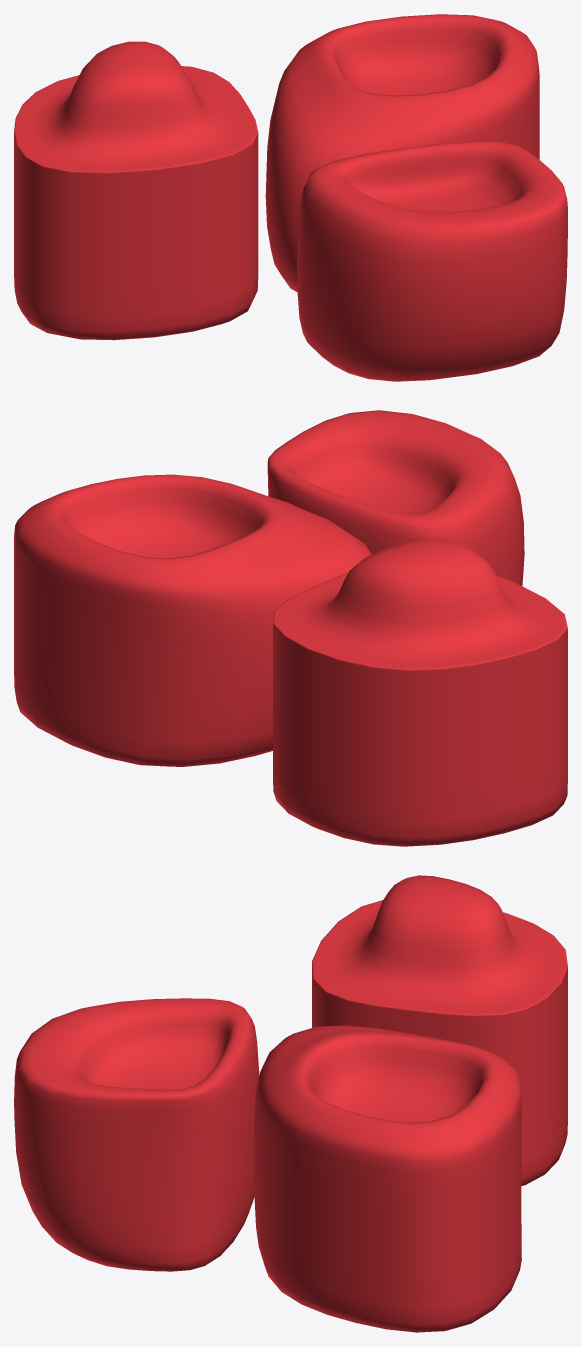
Rendered from CelulasRojas2.fbx.
3 renders of one model, top to bottom at view 1: azimuth 30°, elevation 25°; view 2: azimuth 150°, elevation 25°; view 3: azimuth 270°, elevation 25°, orthographic. The views are drawn at different scales.
Visible parts, largest first — view 1: CelulasRojas2; view 2: CelulasRojas2; view 3: CelulasRojas2.
Boxes of the visible parts, x1=… form: CelulasRojas2: x1=14, y1=14, x2=567, y2=381; CelulasRojas2: x1=14, y1=410, x2=567, y2=846; CelulasRojas2: x1=14, y1=875, x2=567, y2=1332.
Size of the model in its own units: 1.68 by 0.7531 by 1.51.
